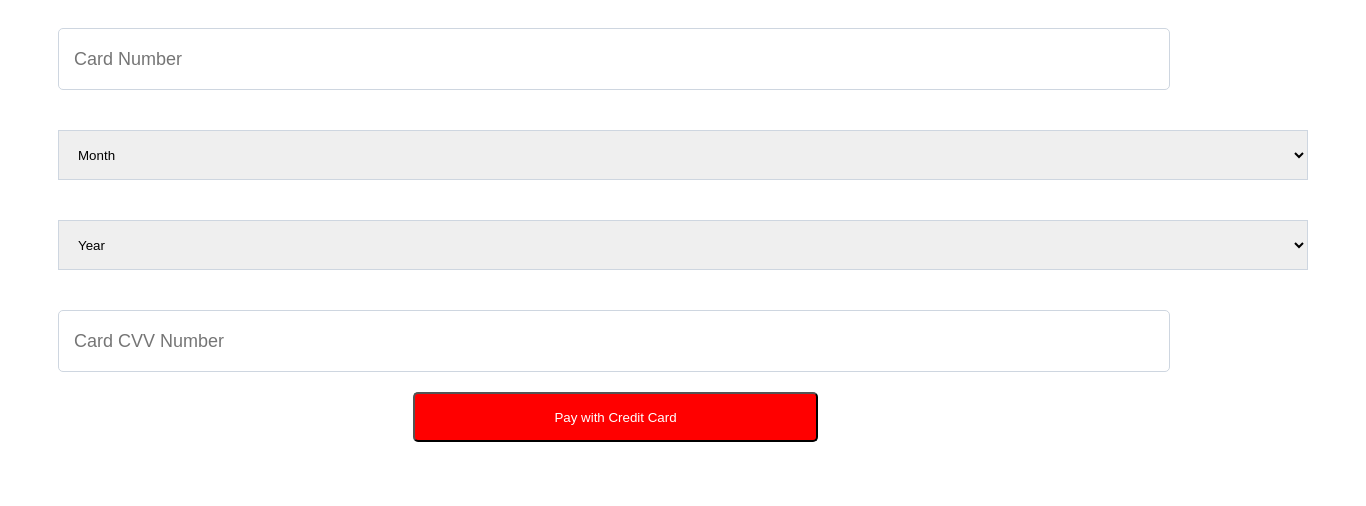
Scenario: Credit Cart Component Tests › Should show card number must be 16 digits error message when Pay With Credit Card button clicked
The image size is (1366, 506).
In the field with id "cardCVV": x=614, y=341 [58, 310, 1170, 372], type "123"
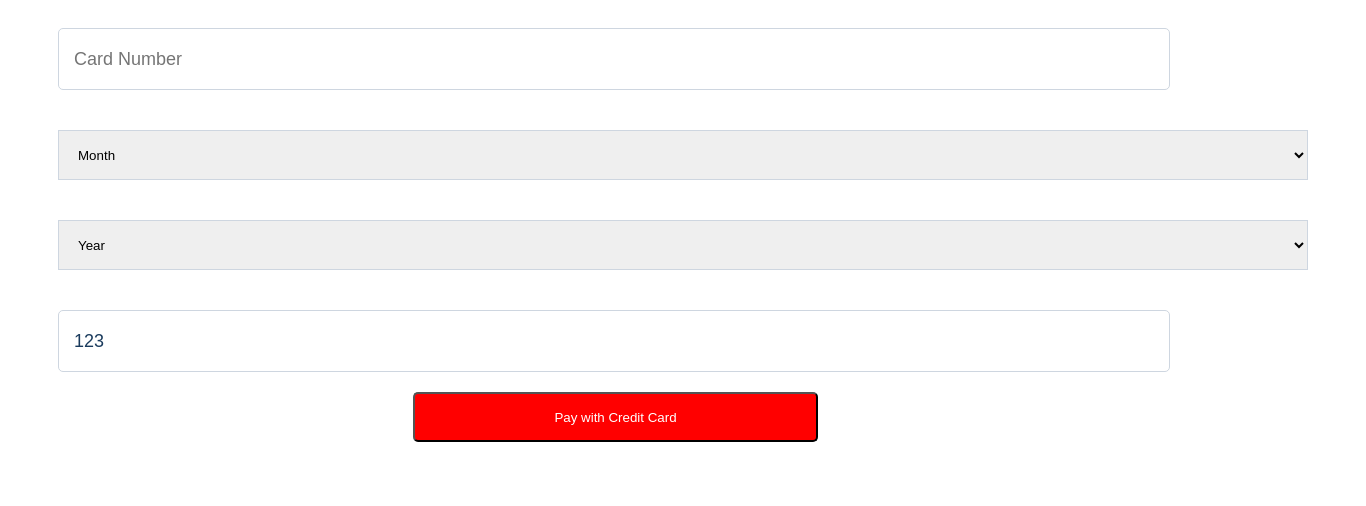
Select "01" in the dropdown with id "cardMonth": x=683, y=155 [58, 130, 1308, 180]
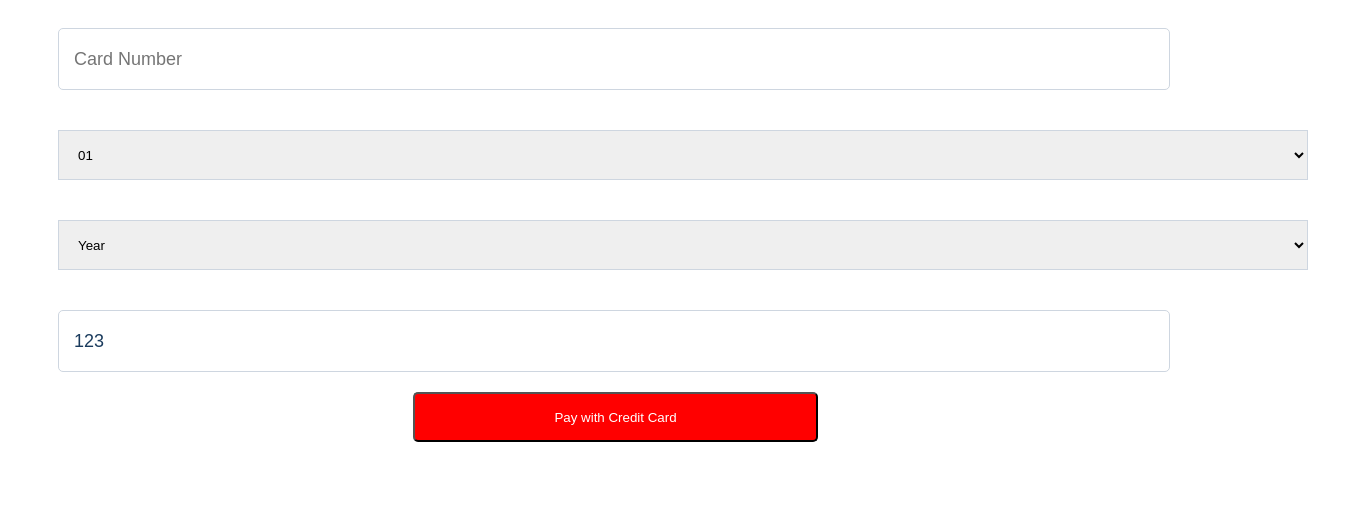
Select "2021" in the dropdown with id "cardYear": x=683, y=245 [58, 220, 1308, 270]
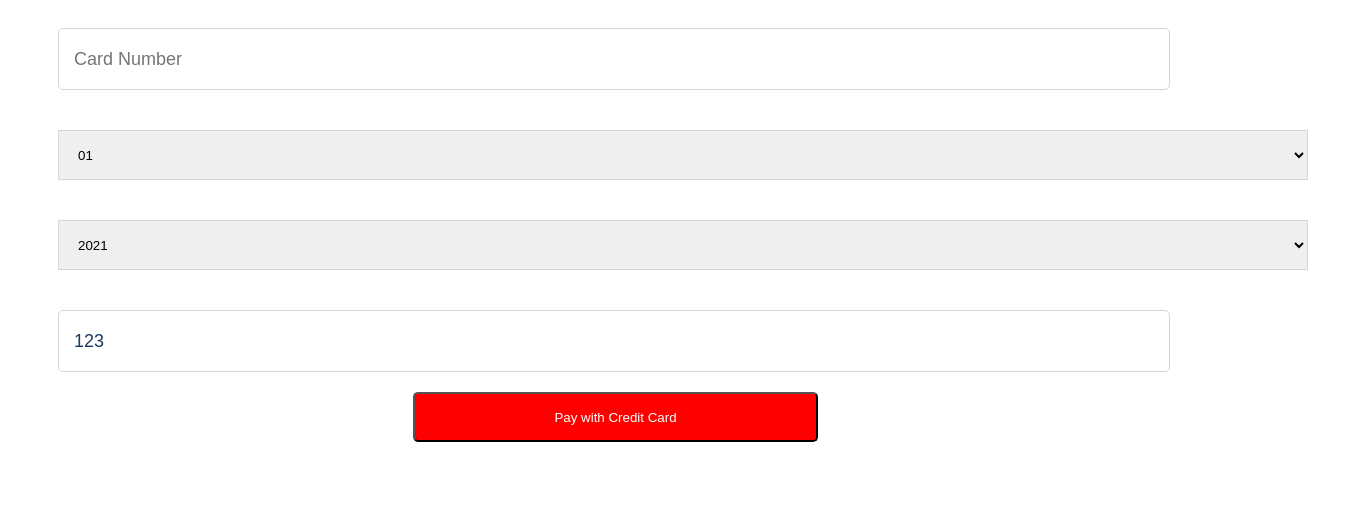
Click the button "Pay with Credit Card": x=616, y=417 [413, 392, 818, 442]
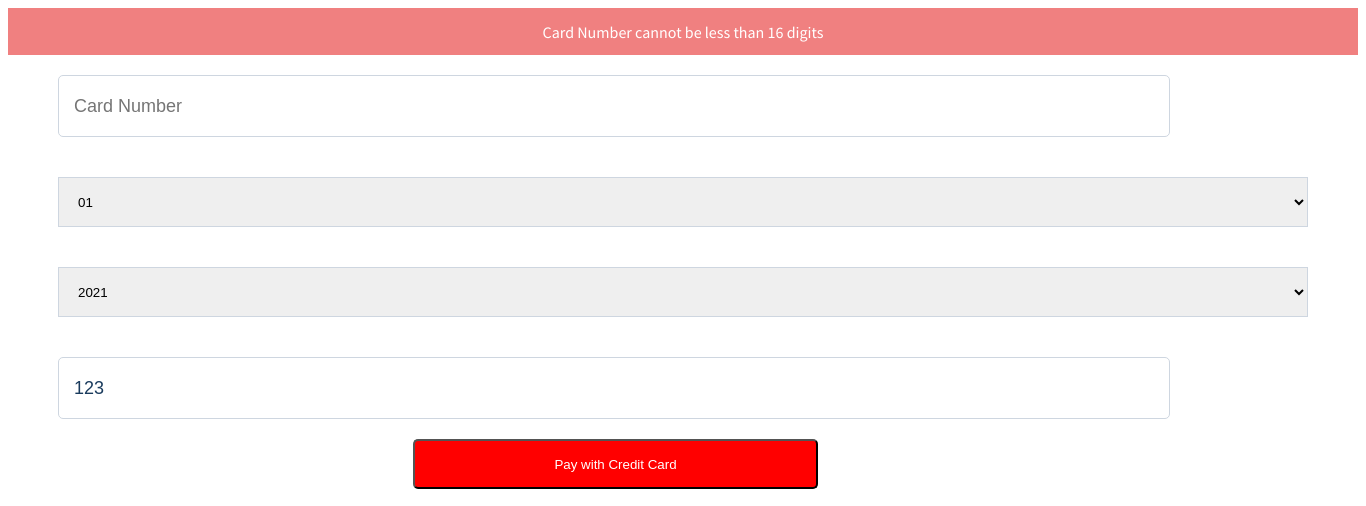
Expected: the text with id "errorSide" reads "Card Number cannot be less than 16 digits", [543, 22, 824, 42]
